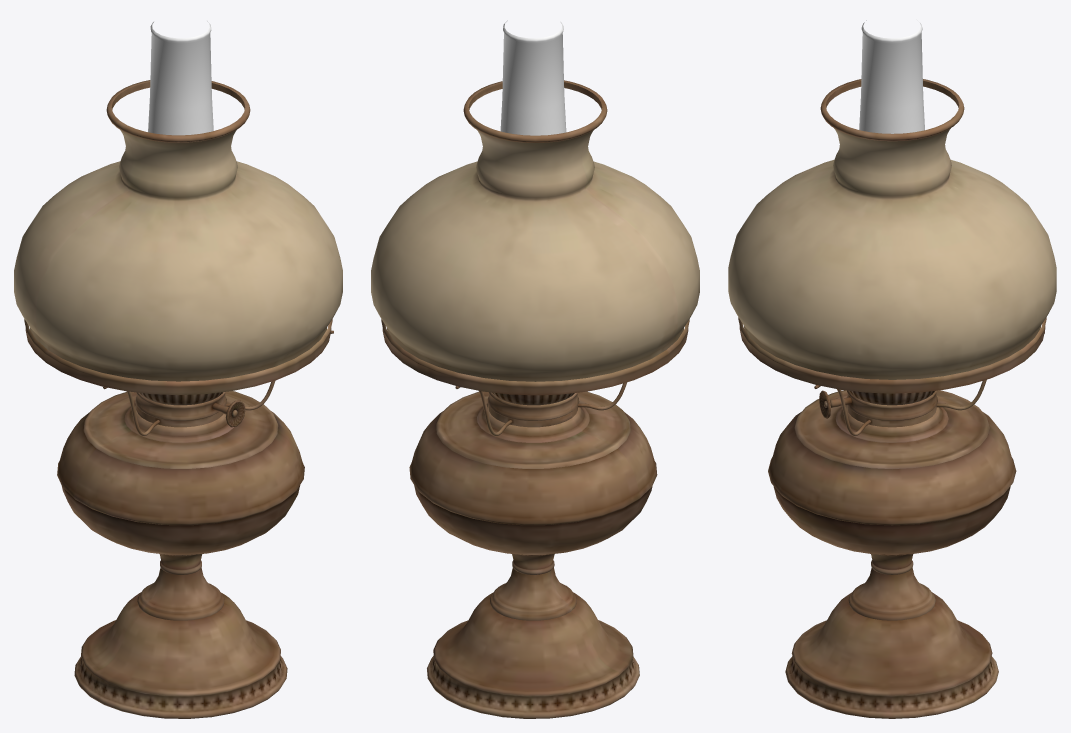
Rendered from SM_oil_lamp_01_ba43e2.glb.
3 renders of one model, left to right at view 1: azimuth 30°, elevation 25°; view 2: azimuth 150°, elevation 25°; view 3: azimuth 270°, elevation 25°, orthographic.
Size of the model in its own units: 0.27 by 0.5878 by 0.27.
Materials: 2 (1 with a texture image).
